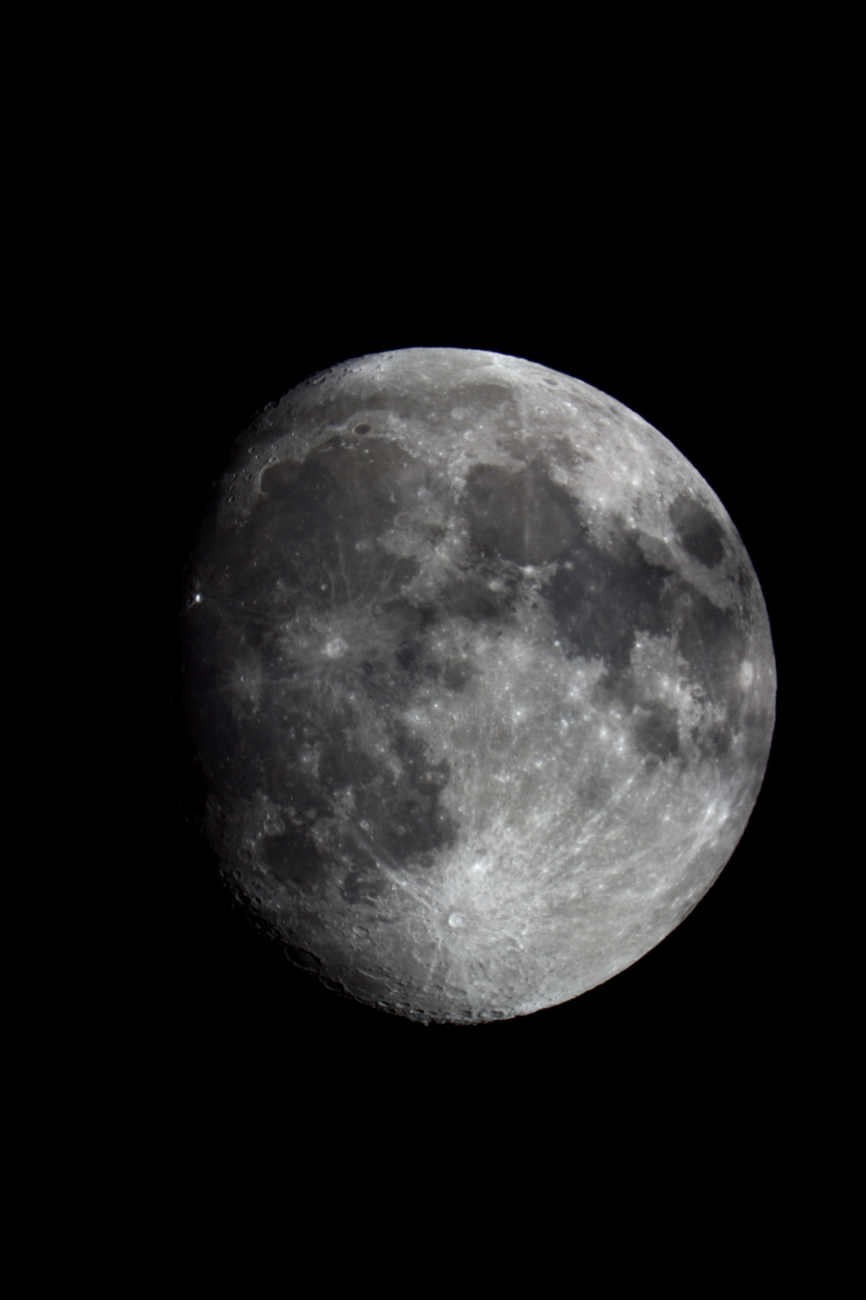crater: (657, 482, 729, 582), (421, 886, 497, 955), (308, 618, 365, 678), (281, 937, 331, 977), (340, 417, 381, 444), (224, 666, 259, 693), (386, 506, 418, 532), (260, 812, 288, 841), (457, 424, 486, 449), (231, 843, 260, 866), (346, 921, 378, 941), (483, 575, 505, 597), (347, 536, 368, 557), (508, 649, 531, 667), (189, 590, 209, 610), (538, 375, 562, 391), (674, 674, 692, 695), (415, 485, 433, 505), (357, 817, 379, 833), (227, 866, 247, 881), (690, 682, 706, 700), (533, 404, 550, 419), (510, 635, 526, 650), (421, 504, 438, 517), (390, 880, 403, 895), (265, 455, 280, 464), (246, 445, 258, 454), (244, 470, 253, 482)
